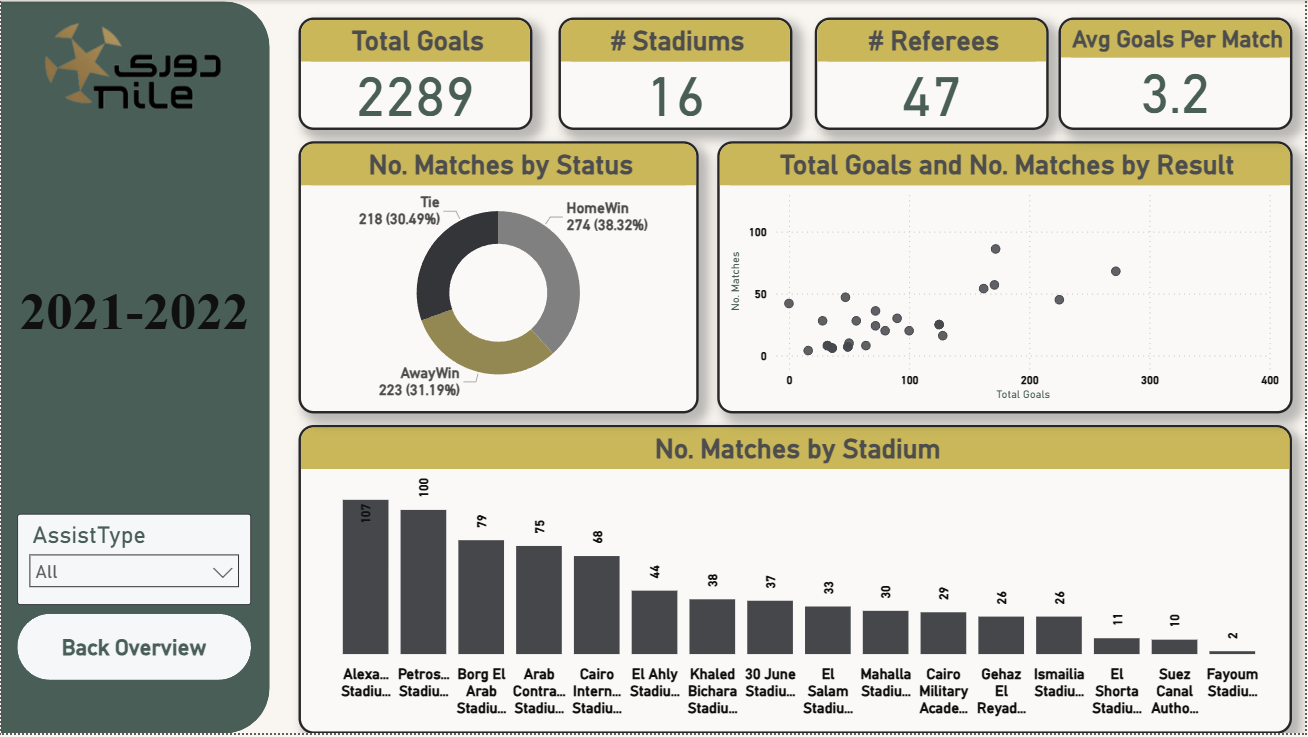

The page's visual inventory and layout, read from the dashboard file:
{"tool":"powerbi","page":{"name":"Season Details","canvas":[1280,720],"ordinal":4},"visuals":[{"type":"card","title":"Total Goals","fields":{"Values":["_Measures.Total Goals"]},"box":[292,17.2,229.4,110.4],"z":0},{"type":"card","title":"# Stadiums","fields":{"Values":["_Measures.No. Stadium"]},"box":[547.2,17.2,229.4,110.4],"z":1000},{"type":"card","title":"# Referees","fields":{"Values":["_Measures.No. Rereree"]},"box":[798.8,17.2,229.4,110.4],"z":2000},{"type":"clusteredColumnChart","fields":{"Y":["_Measures.No. Matches"],"Category":["DIm_Stadium.Stadium"]},"box":[292,417.2,975.5,303.1],"z":3000},{"type":"donutChart","fields":{"Category":["Dim_Status.Status"],"Y":["_Measures.No. Matches"]},"box":[292,138.7,392.6,267.5],"z":4000},{"type":"shape","box":[0,1.2,263.8,719],"z":5000},{"type":"scatterChart","fields":{"X":["_Measures.Total Goals"],"Category":["Dim_Result.Result"],"Y":["_Measures.No. Matches"]},"box":[703.1,138.7,564.4,267.5],"z":6000},{"type":"image","box":[14.7,17.2,230.7,95.7],"z":7000},{"type":"slicer","fields":{"Values":["Dim_AssistantType.AssistType"]},"box":[16,504.3,229.4,89.6],"z":8000},{"type":"shape","box":[16,602.5,229.4,65],"z":9000},{"type":"card","title":"Season ","fields":{"Values":["Min(Dim_Season.Season)"]},"box":[7.4,225.8,247.9,150.9],"z":10000},{"type":"card","title":"Avg Goals Per Match","fields":{"Values":["_Measures.Avg Goals"]},"box":[1038,17.2,229.4,110.4],"z":11000},{"type":"actionButton","box":[35.6,602.5,192.6,63.8],"z":12000}]}

Visuals, with their boxes in screenshot pixels (x1, y1, x2, y2), scaled from the page's 1280x720 canvas onto the 1308x737 screenshot:
"Total Goals" card: [298, 18, 533, 131]
"# Stadiums" card: [559, 18, 794, 131]
"# Referees" card: [816, 18, 1051, 131]
clusteredColumnChart - _Measures.No. Matches x DIm_Stadium.Stadium: [298, 427, 1295, 736]
donutChart - Dim_Status.Status x _Measures.No. Matches: [298, 142, 700, 416]
shape: [0, 1, 270, 736]
scatterChart - _Measures.Total Goals x Dim_Result.Result: [718, 142, 1295, 416]
image: [15, 18, 251, 116]
slicer - Dim_AssistantType.AssistType: [16, 516, 251, 608]
shape: [16, 617, 251, 683]
"Season " card: [8, 231, 261, 386]
"Avg Goals Per Match" card: [1061, 18, 1295, 131]
actionButton: [36, 617, 233, 682]
